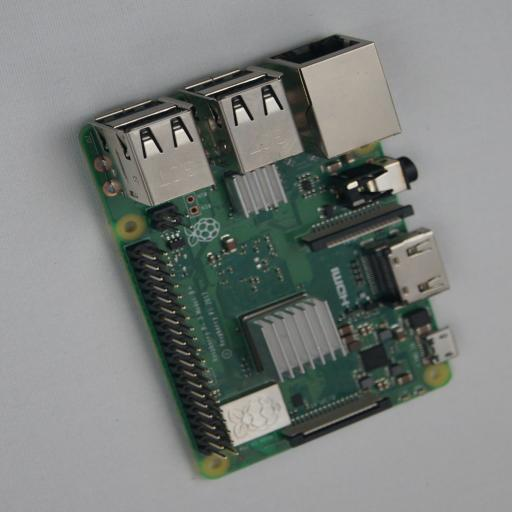Raspberry Pi 3 B-: (70, 34, 452, 478)
